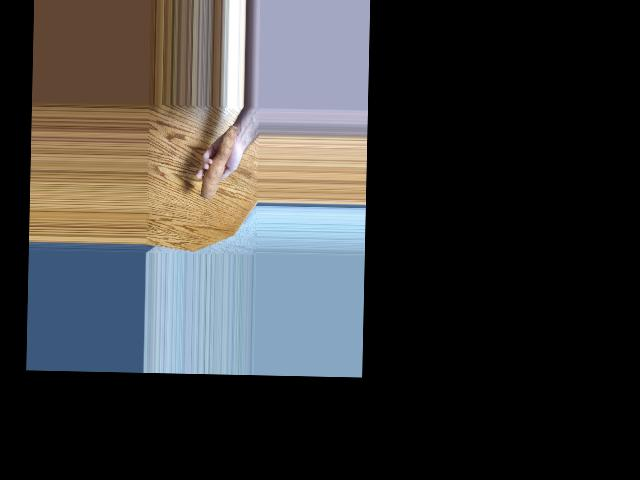sweet_potato: (198, 122, 239, 200)
